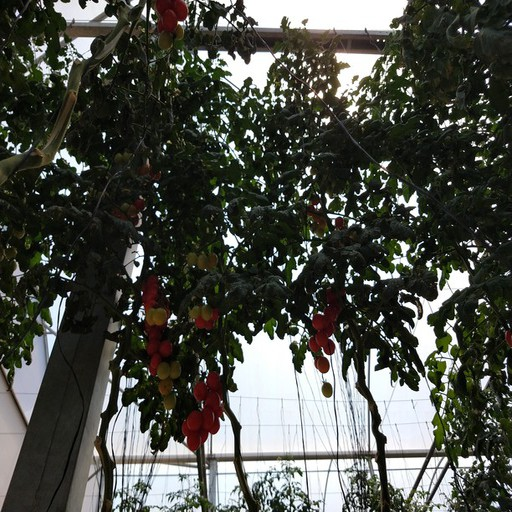green tomato bunch: (187, 253, 219, 270)
mixed tomato bunch: (140, 277, 184, 412), (305, 196, 352, 245), (114, 149, 163, 187), (152, 1, 188, 49), (116, 194, 150, 229)
red tomato bunch: (182, 371, 226, 449), (308, 289, 347, 373)
